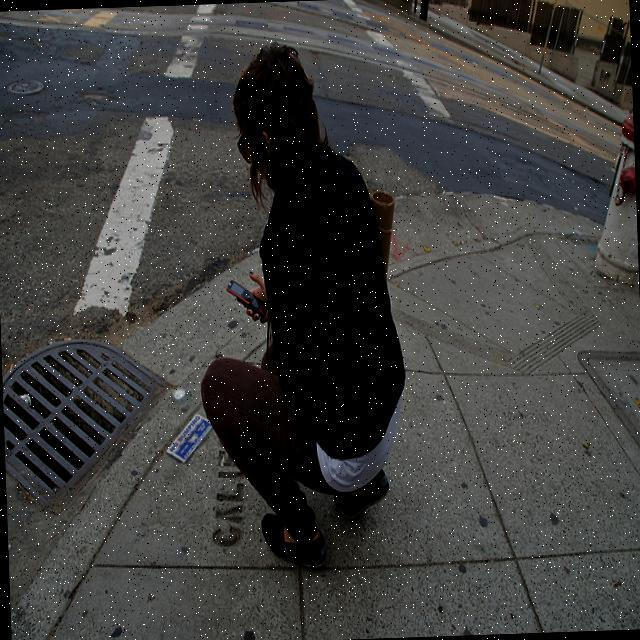fire_hydrant: (588, 106, 639, 290)
